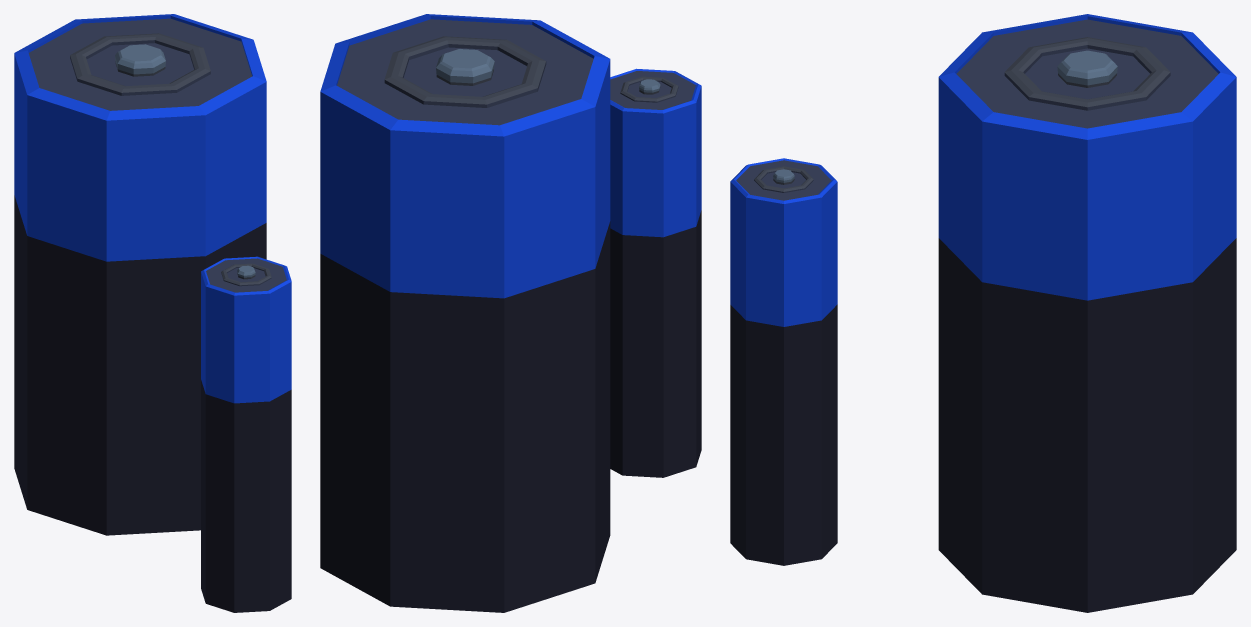
The model's file is AncientBattery.fbx.
3 views of the same model, side by side, from view 1: azimuth 30°, elevation 25°; view 2: azimuth 150°, elevation 25°; view 3: azimuth 270°, elevation 25° (orthographic). The views are drawn at different scales.
Parts seen in each view (by area): view 1: Battery.013; view 2: Battery.013; view 3: Battery.013.
Boxes of the visible parts, x1,y1,x2,y2 form: Battery.013: (14,14,291,612); Battery.013: (320,14,701,612); Battery.013: (730,14,1236,612).
Bounding box in the file's own units: 24.62 × 45.38 × 41.82.
